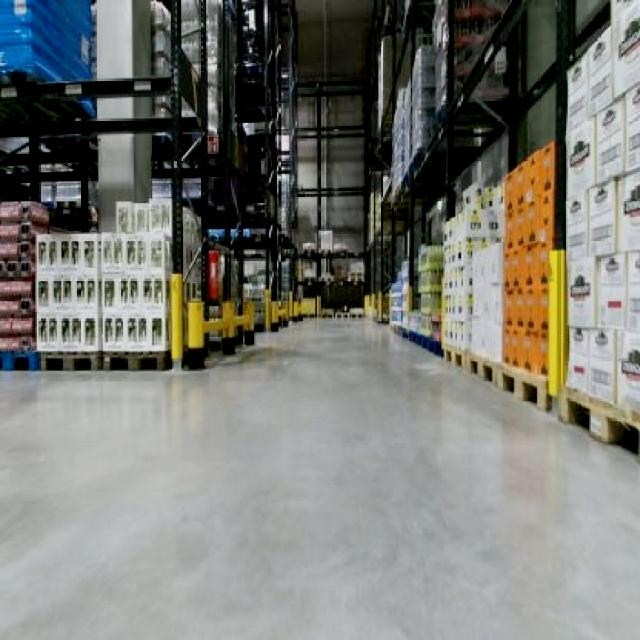floor: (0, 318, 637, 637)
pallets: (0, 200, 46, 366)
